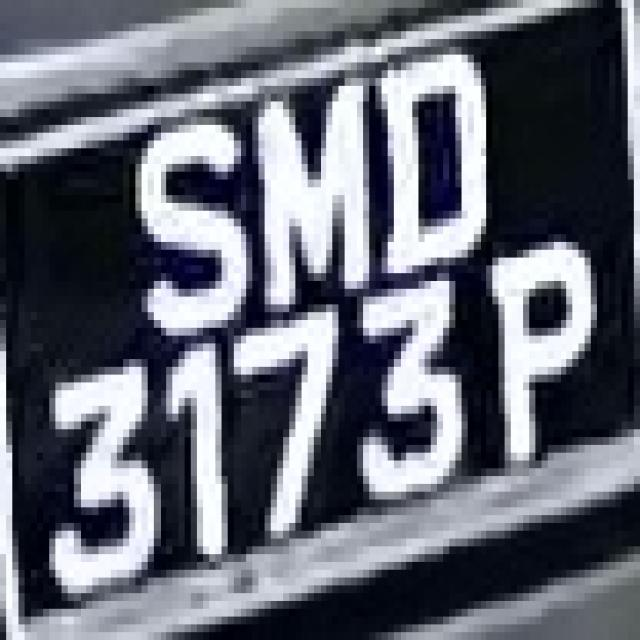1: (172, 320, 246, 570)
3: (31, 336, 172, 608), (351, 265, 455, 523)
7: (228, 296, 332, 546)
D: (370, 47, 492, 257)
M: (234, 54, 381, 304)
P: (474, 250, 603, 476)
S: (117, 102, 240, 344)
